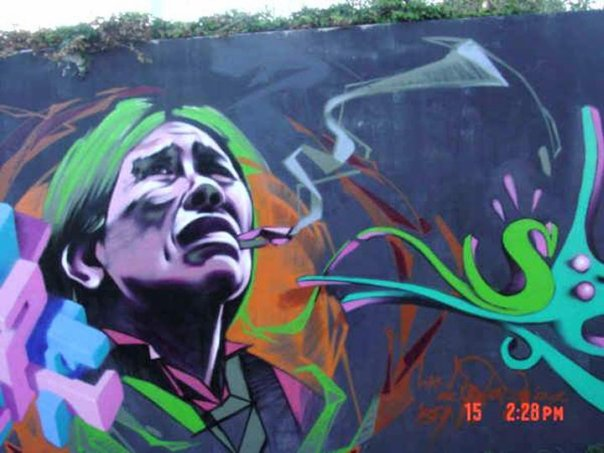graffity: (2, 32, 561, 453), (288, 97, 604, 424), (410, 348, 568, 434)
